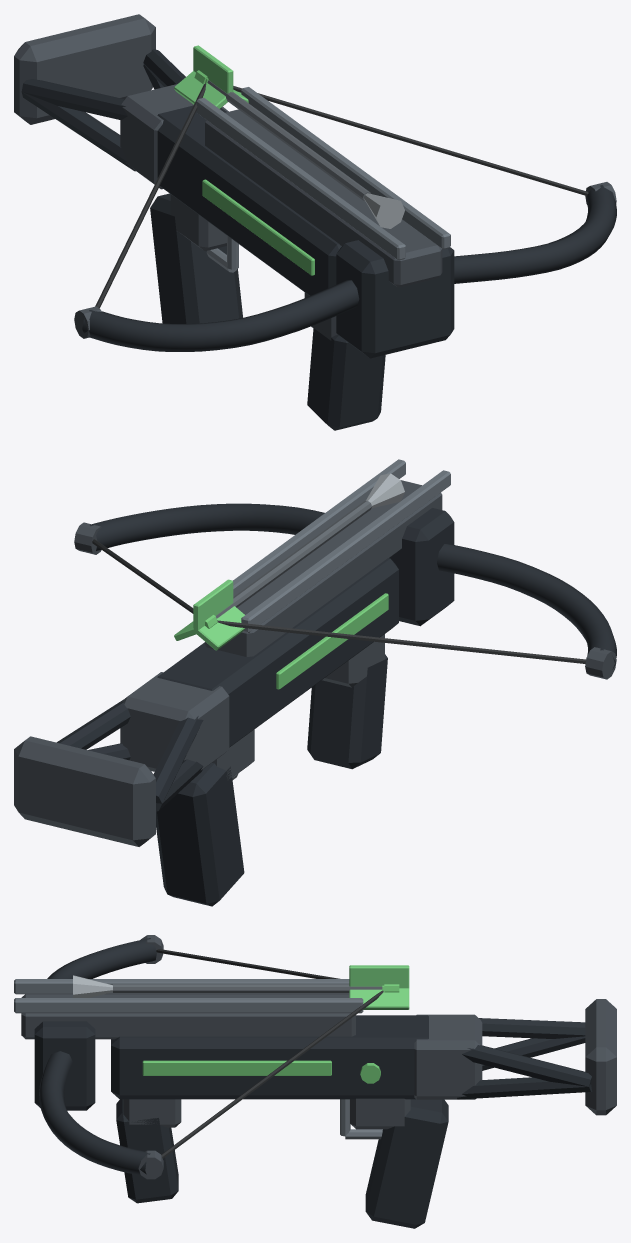
Rendered from Crossbow.glb.
The picture shows the model from 3 angles, top to bottom: view 1: azimuth 30°, elevation 25°; view 2: azimuth 150°, elevation 25°; view 3: azimuth 270°, elevation 25°; orthographic projection. The views are drawn at different scales.
Visible parts, largest first — view 1: Receiver, BowMount, ButtPad, FlightDeck, LeftRecurveLimb, PistolGrip, ForeGrip, RightRecurveLimb, BoltRailLeft, RearReceiver, BoltRailRight, GreenSideAccentL (+10 smaller); view 2: Receiver, ButtPad, PistolGrip, FlightDeck, RearReceiver, ForeGrip, RightRecurveLimb, LeftRecurveLimb, BowMount, BoltRailLeft, BoltRailRight, GreenSideAccentL (+13 smaller); view 3: Receiver, FlightDeck, PistolGrip, BoltRailRight, RearReceiver, RightRecurveLimb, BowMount, ButtPad, ForeGrip, GreenSideAccentR, BoltRailLeft, StockUpperRight (+13 smaller).
Part boxes in pixels (x1,y1,x2,y2): Receiver: [157, 105, 341, 295]; BowMount: [336, 240, 454, 358]; ButtPad: [14, 14, 155, 124]; FlightDeck: [205, 109, 442, 287]; LeftRecurveLimb: [82, 280, 359, 351]; PistolGrip: [150, 193, 242, 323]; ForeGrip: [307, 327, 385, 430]; RightRecurveLimb: [454, 185, 616, 283]; BoltRailLeft: [196, 97, 405, 260]; RearReceiver: [120, 84, 228, 189]; BoltRailRight: [241, 87, 450, 249]; GreenSideAccentL: [202, 179, 314, 275]; Receiver: [157, 558, 398, 747]; ButtPad: [14, 736, 155, 846]; PistolGrip: [156, 763, 244, 906]; FlightDeck: [205, 480, 442, 656]; RearReceiver: [120, 672, 229, 771]; ForeGrip: [307, 654, 387, 769]; RightRecurveLimb: [90, 503, 324, 550]; LeftRecurveLimb: [437, 544, 616, 669]; BowMount: [389, 508, 454, 626]; BoltRailLeft: [241, 470, 450, 632]; BoltRailRight: [233, 459, 405, 596]; GreenSideAccentL: [276, 593, 388, 689]; Receiver: [111, 1015, 428, 1099]; FlightDeck: [21, 994, 355, 1039]; PistolGrip: [365, 1099, 448, 1228]; BoltRailRight: [14, 998, 363, 1013]; RearReceiver: [414, 1014, 482, 1099]; RightRecurveLimb: [39, 1051, 150, 1175]; BowMount: [34, 1021, 95, 1110]; ButtPad: [585, 999, 616, 1115]; ForeGrip: [116, 1099, 178, 1203]; GreenSideAccentR: [142, 1060, 331, 1075]; BoltRailLeft: [14, 979, 349, 994]; StockUpperRight: [462, 1045, 591, 1086].
Size of the model in its own units: 2.19 by 1.16 by 2.49.
